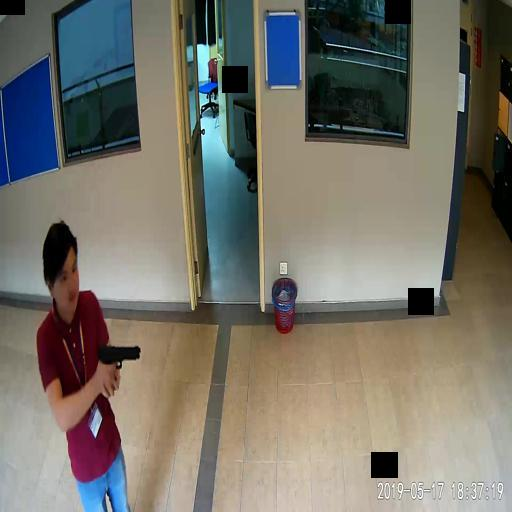Handgun: (97, 342, 139, 389)
